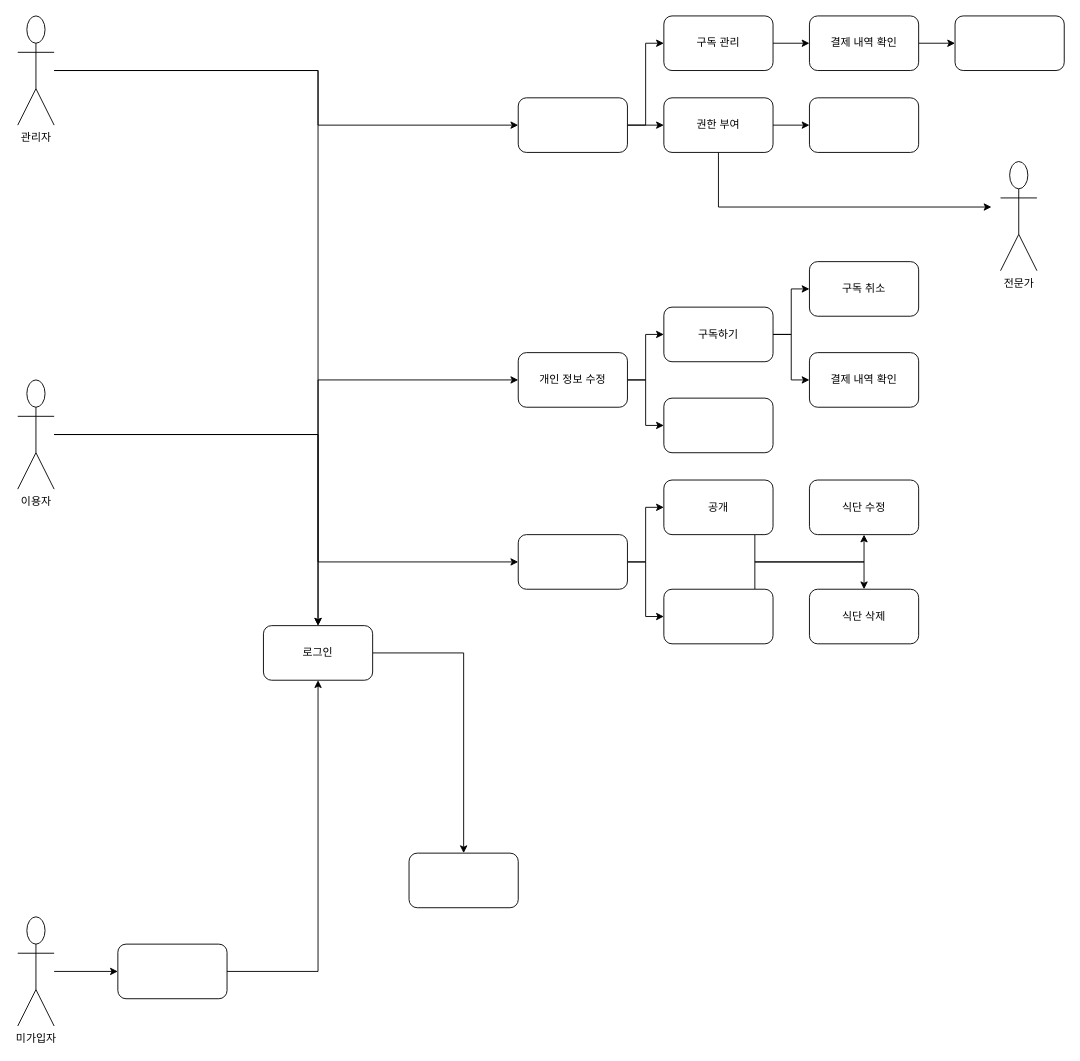
This 1080x1061 diagram has some shape labels left out. The shapes that lost their labels are listed below. From the top down, each one's centre as x and y in pixels, then its label:
At (1009,43): "환불 승인".
At (572,124): "회원 관리".
At (864,124): "권한 삭제".
At (718,425): "회원 탈퇴".
At (572,561): "식단 추가".
At (718,616): "비공개".
At (463,880): "로그아웃".
At (172,971): "회원가입".
